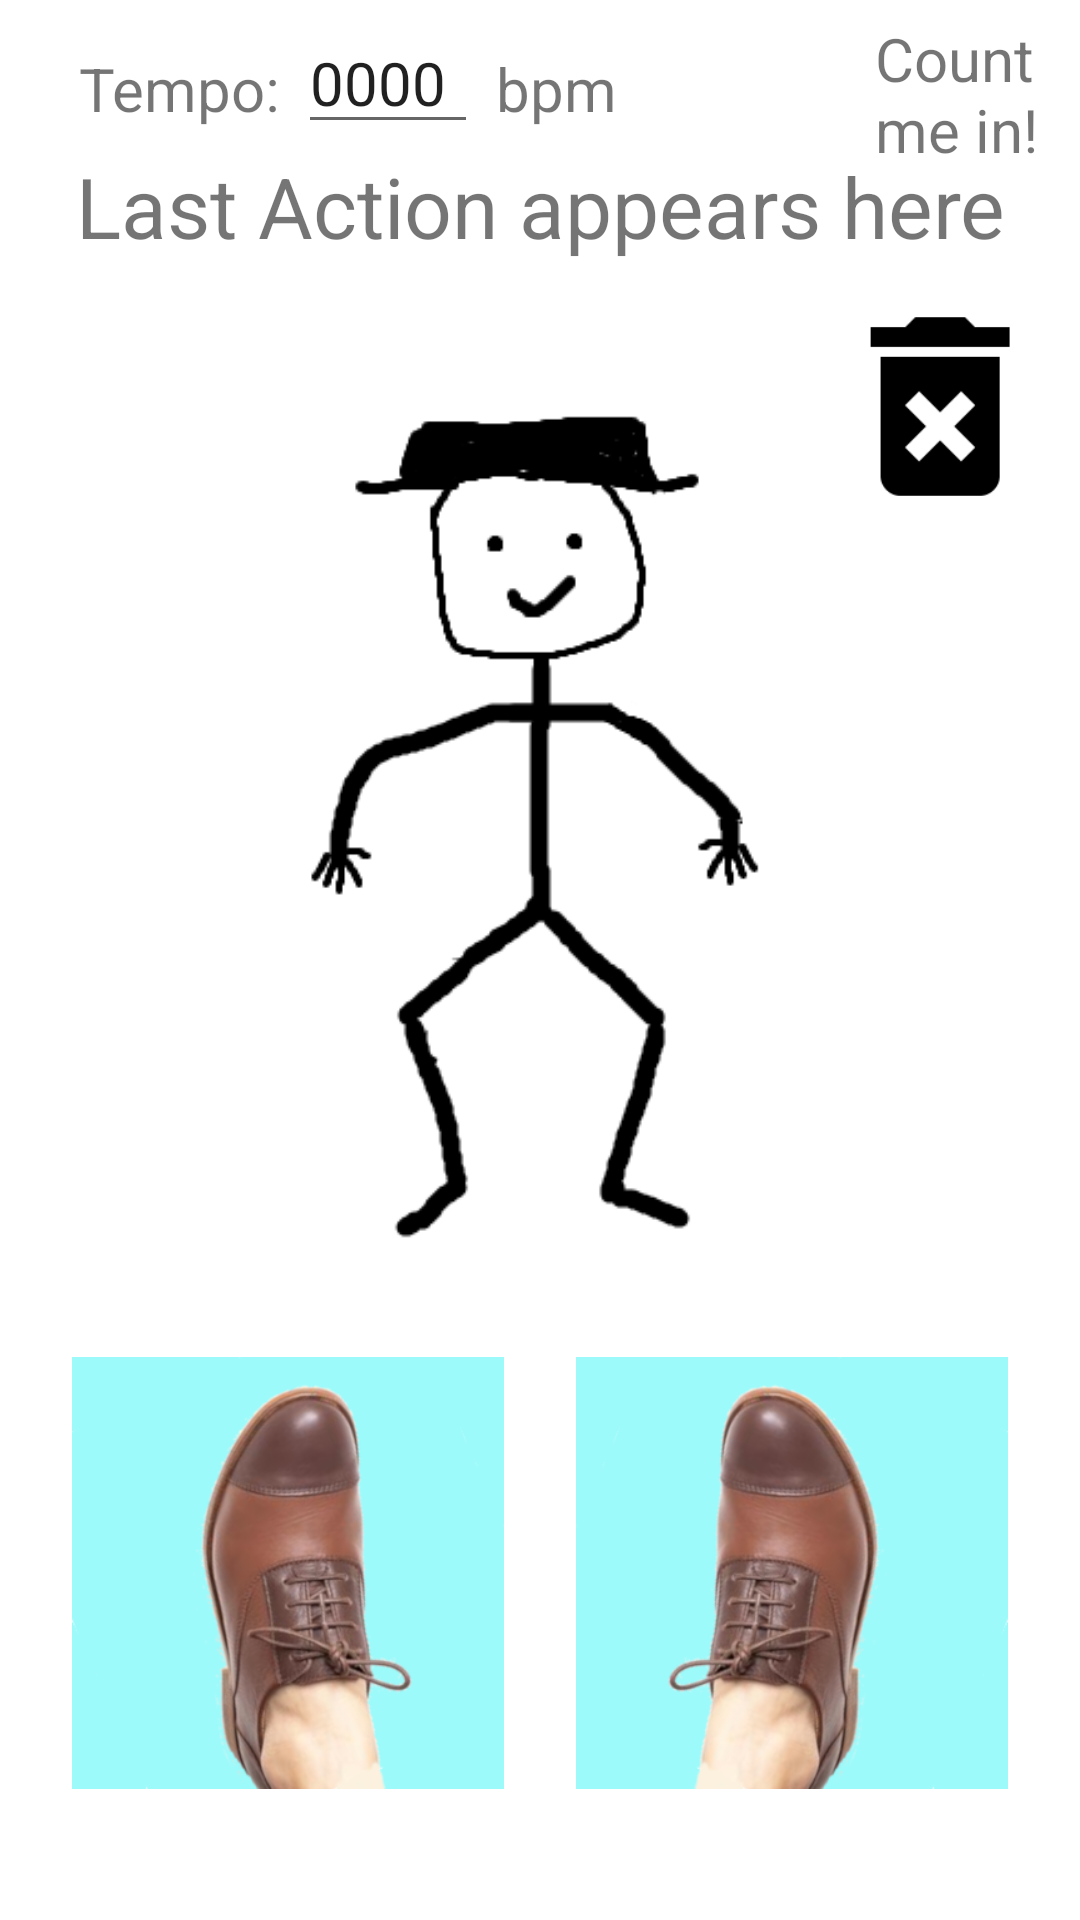

Icons on this 1080 × 1920 Android screen, each with its box as (x1, y1, x2, y2):
Deleteimage: (870, 317, 1010, 496)
